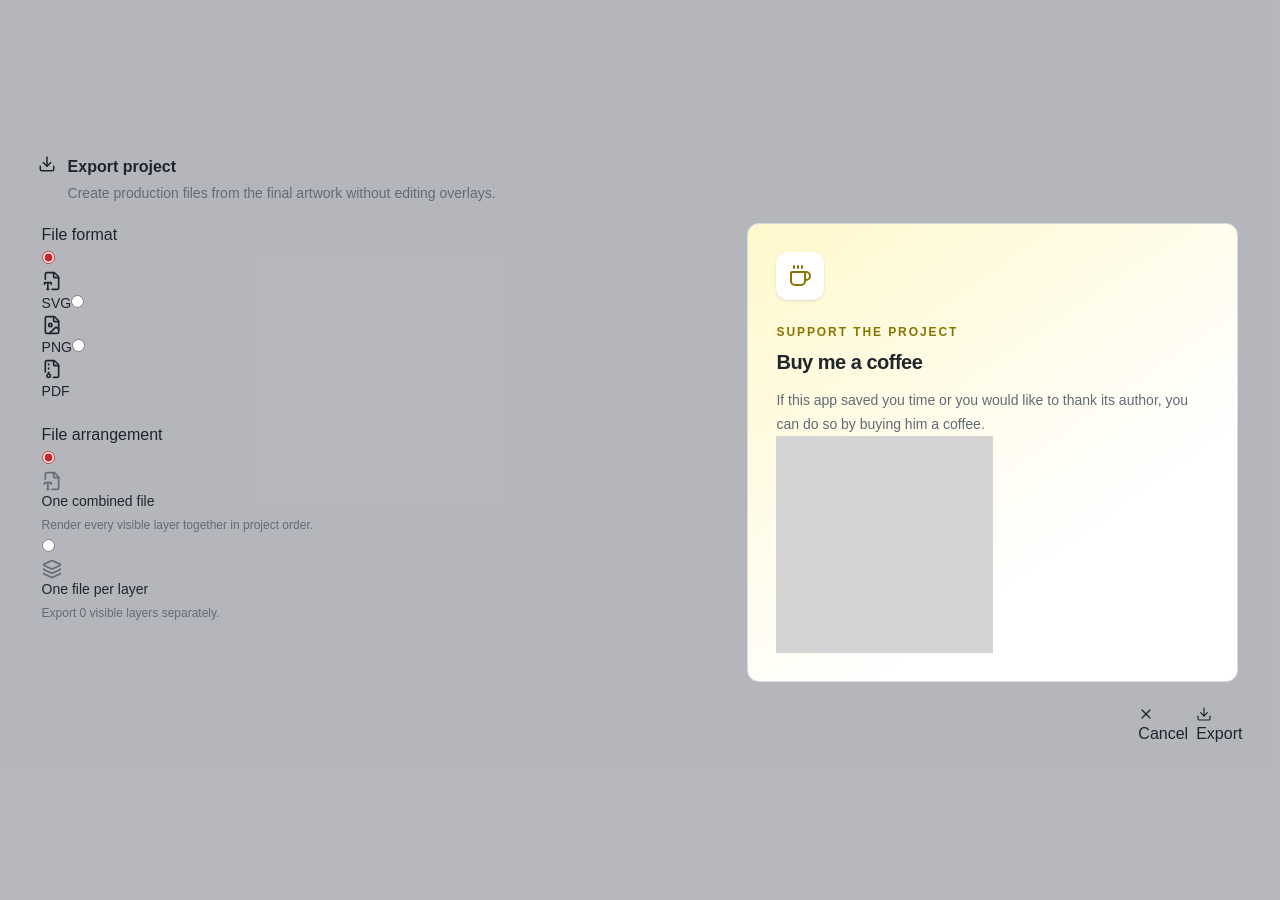
Test case: ExportModal › warns when an actual-size project does not fit on A4 and allows A3
The width and height of the screenshot is (1280, 900).
Click the radio button labelled "PDF".
click(78, 345)  # box [72, 338, 85, 352]
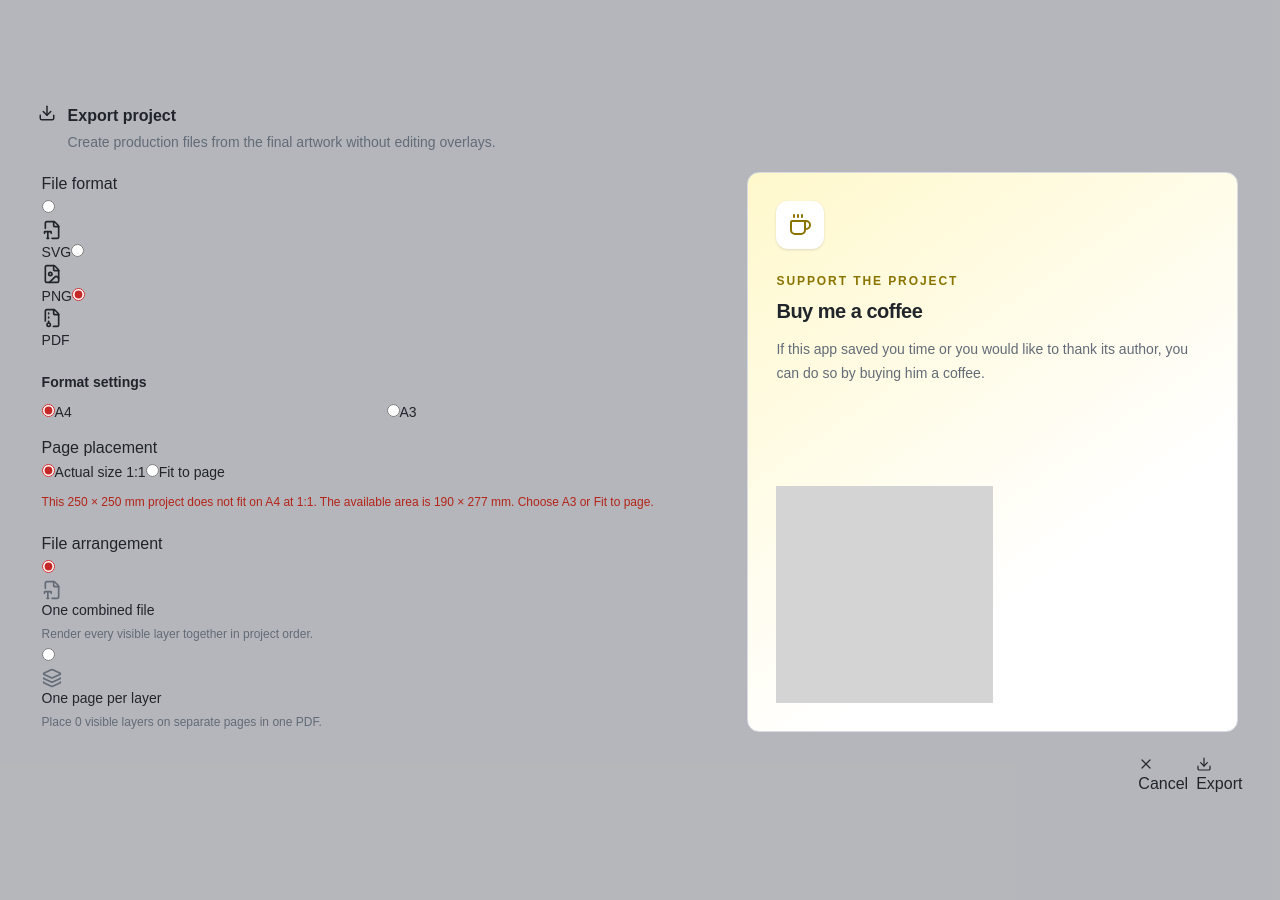
Result: the message shows "This 250 × 250 mm project does not fit on A4 at 1:1" at [42, 495, 654, 509]
Result: the button "Export" is disabled at [1196, 756, 1242, 796]
Click the radio button labelled "A3".
click(393, 410)  # box [386, 404, 400, 417]
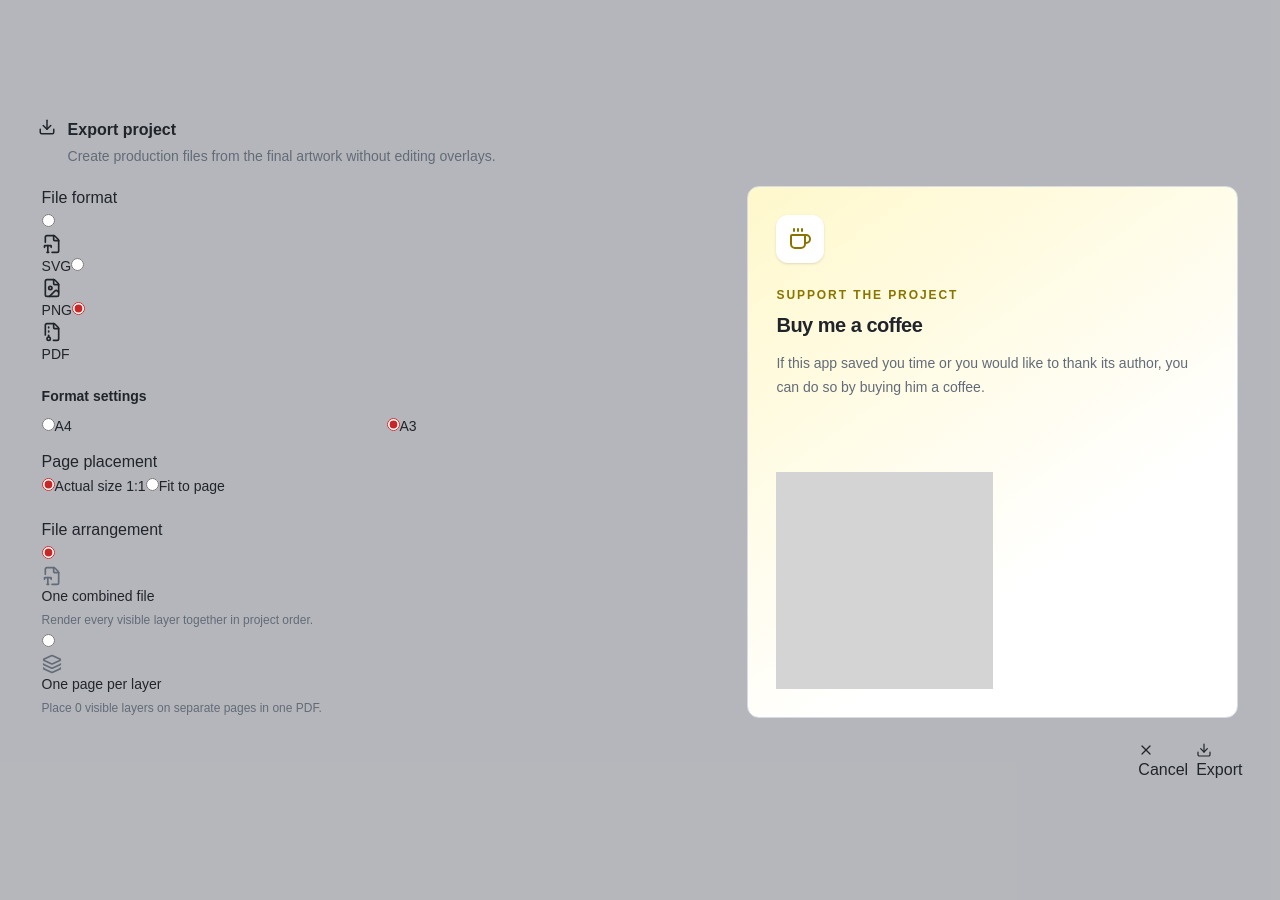
Result: the message is gone
Result: the button "Export" is enabled at [1196, 742, 1242, 782]
